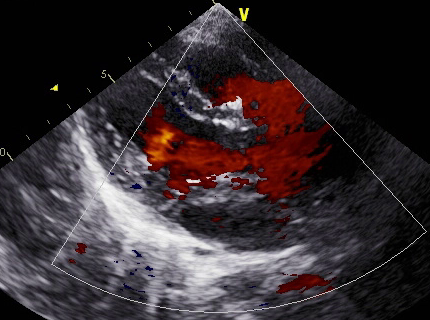AR: (198, 123, 296, 190)
